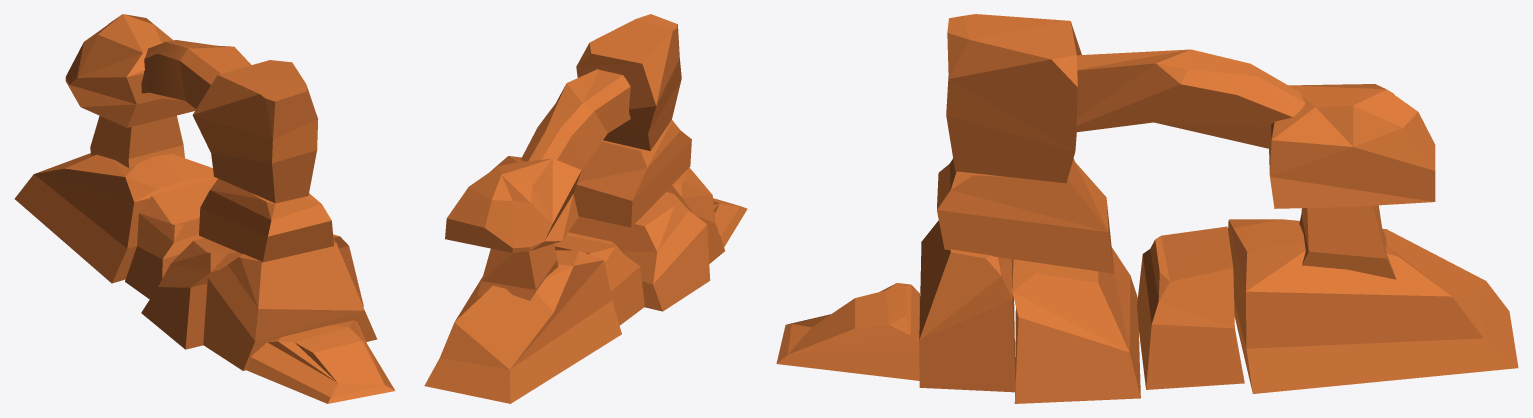
File: Rock_Mountant2.fbx
3 renders of one model, left to right at view 1: azimuth 30°, elevation 25°; view 2: azimuth 150°, elevation 25°; view 3: azimuth 270°, elevation 25°, orthographic. The views are drawn at different scales.
Parts seen in each view (by area): view 1: Rock_Mountant2; view 2: Rock_Mountant2; view 3: Rock_Mountant2.
Boxes of the visible parts, x1,y1,x2,y2 form: Rock_Mountant2: [14, 14, 395, 403]; Rock_Mountant2: [424, 14, 747, 403]; Rock_Mountant2: [776, 14, 1518, 403].
Bounding box in the file's own units: 3453 × 4738 × 9966.
